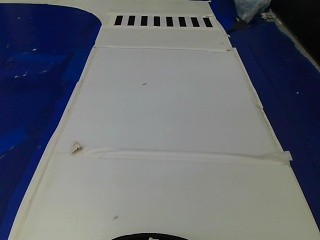crosswalk: (106, 13, 216, 30)
